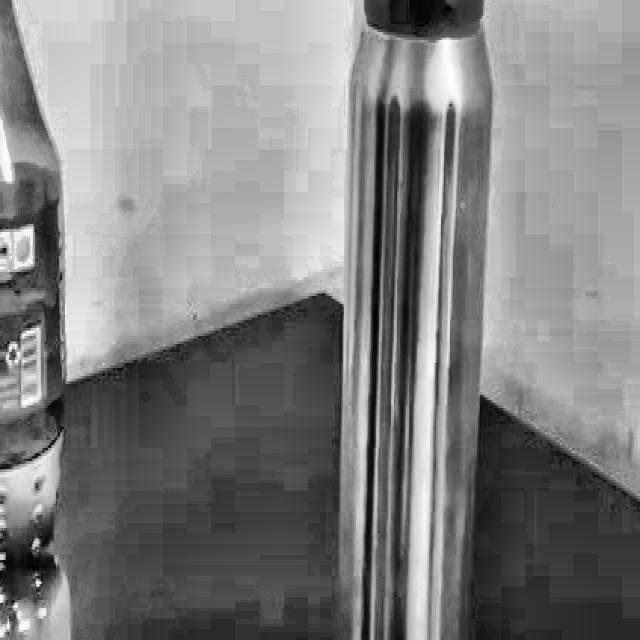bottle: (335, 0, 497, 640)
